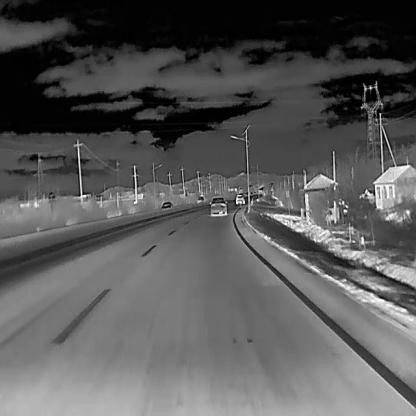car: (209, 196, 228, 216), (160, 200, 173, 210), (235, 193, 245, 205), (196, 195, 204, 203)
